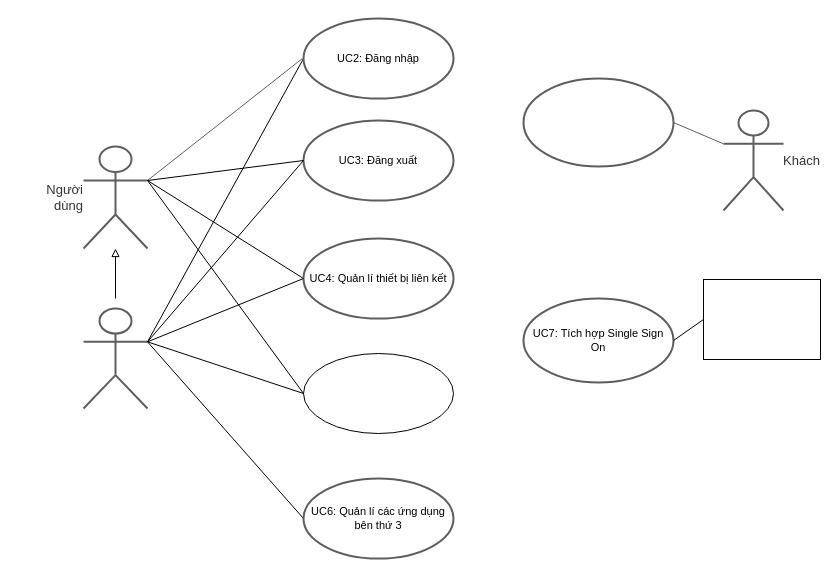
Some shapes in this 838 by 576 pixel diagram are drawn without their labels. Each missing label, with the centre of its shape:
Nhà phát triển ứng dụng: the point at 115,358
UC1: Đăng kí tài khoản: the point at 598,122
UC5: Thiết lập thông tin xác thực: the point at 378,393
« actor » Ứng dụng bên thứ 3: the point at 761,319
